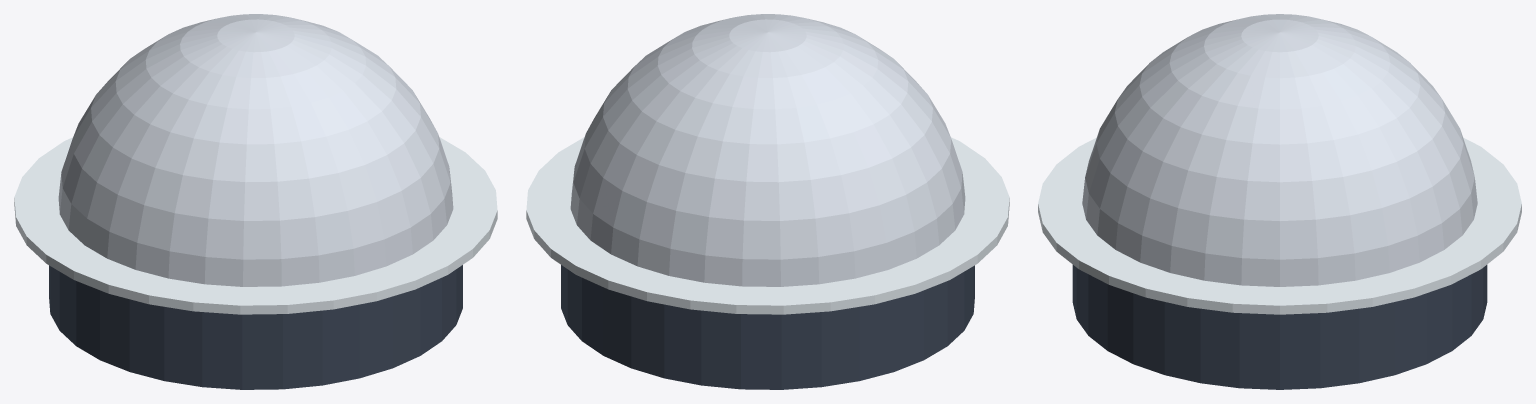
The model's file is observatory_sky_deck.glb.
The picture shows the model from 3 angles, left to right: view 1: azimuth 30°, elevation 25°; view 2: azimuth 150°, elevation 25°; view 3: azimuth 270°, elevation 25°; orthographic projection.
Parts seen in each view (by area): view 1: observatory_sky_deck; view 2: observatory_sky_deck; view 3: observatory_sky_deck.
Part boxes in pixels (box(x1,y1,x2,y2)): observatory_sky_deck: box(14, 14, 497, 389); observatory_sky_deck: box(526, 14, 1009, 389); observatory_sky_deck: box(1038, 14, 1521, 389).
Size of the model in its own units: 34.16 by 21.03 by 34.16.
